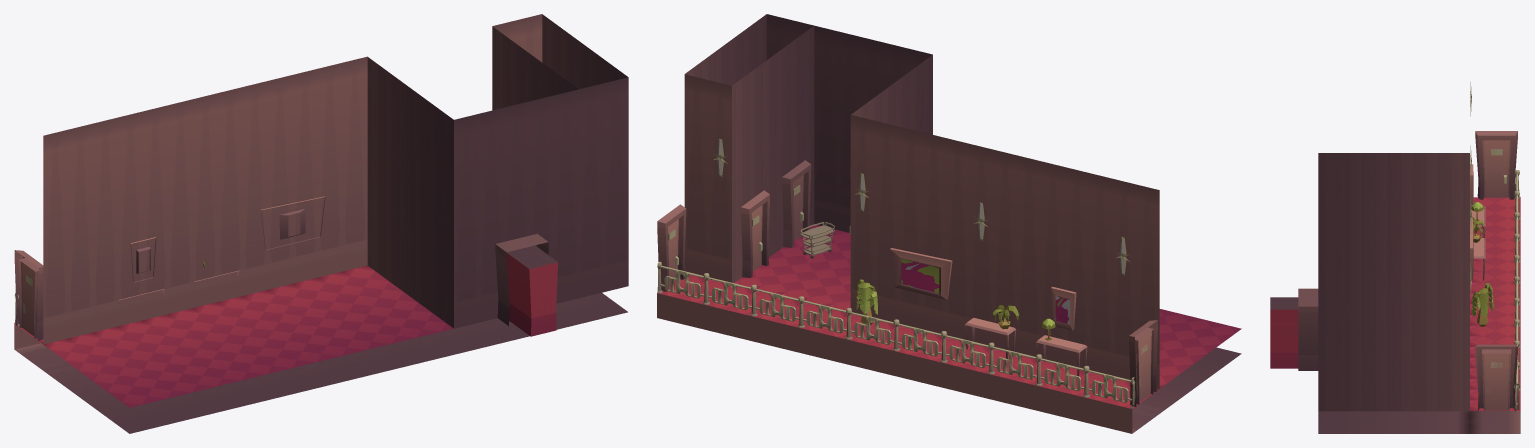
File: SM_HotelRoom-C.fbx
The picture shows the model from 3 angles, left to right: view 1: azimuth 30°, elevation 25°; view 2: azimuth 150°, elevation 25°; view 3: azimuth 270°, elevation 25°; orthographic projection. The views are drawn at different scales.
Parts seen in each view (by area): view 1: HotellRoom_C; view 2: HotellRoom_C; view 3: HotellRoom_C.
Part boxes in pixels (x1=…): HotellRoom_C: x1=14, y1=14, x2=628, y2=433; HotellRoom_C: x1=657, y1=14, x2=1241, y2=433; HotellRoom_C: x1=1270, y1=82, x2=1520, y2=433.
Size of the model in its own units: 990 by 2021 by 900.
